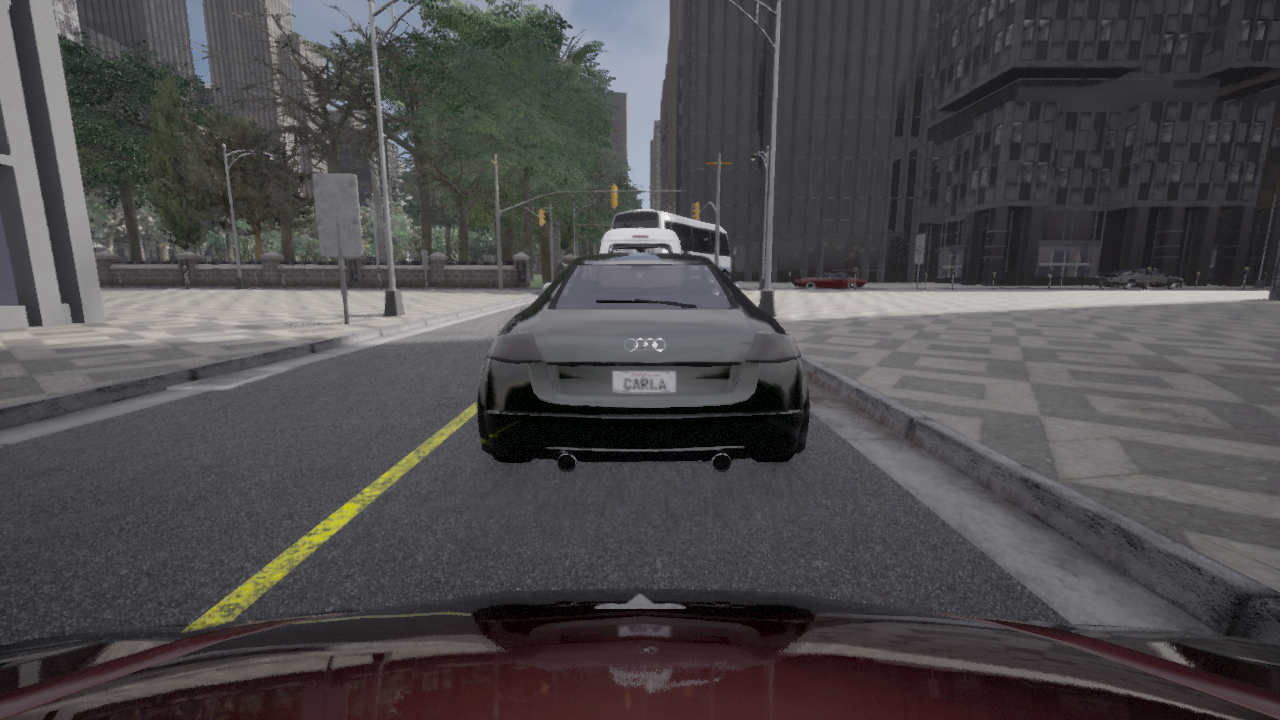cyclist: (0, 588, 1279, 719), (477, 253, 809, 472), (611, 210, 736, 278), (599, 228, 681, 253), (1093, 268, 1184, 289), (792, 272, 865, 289)
